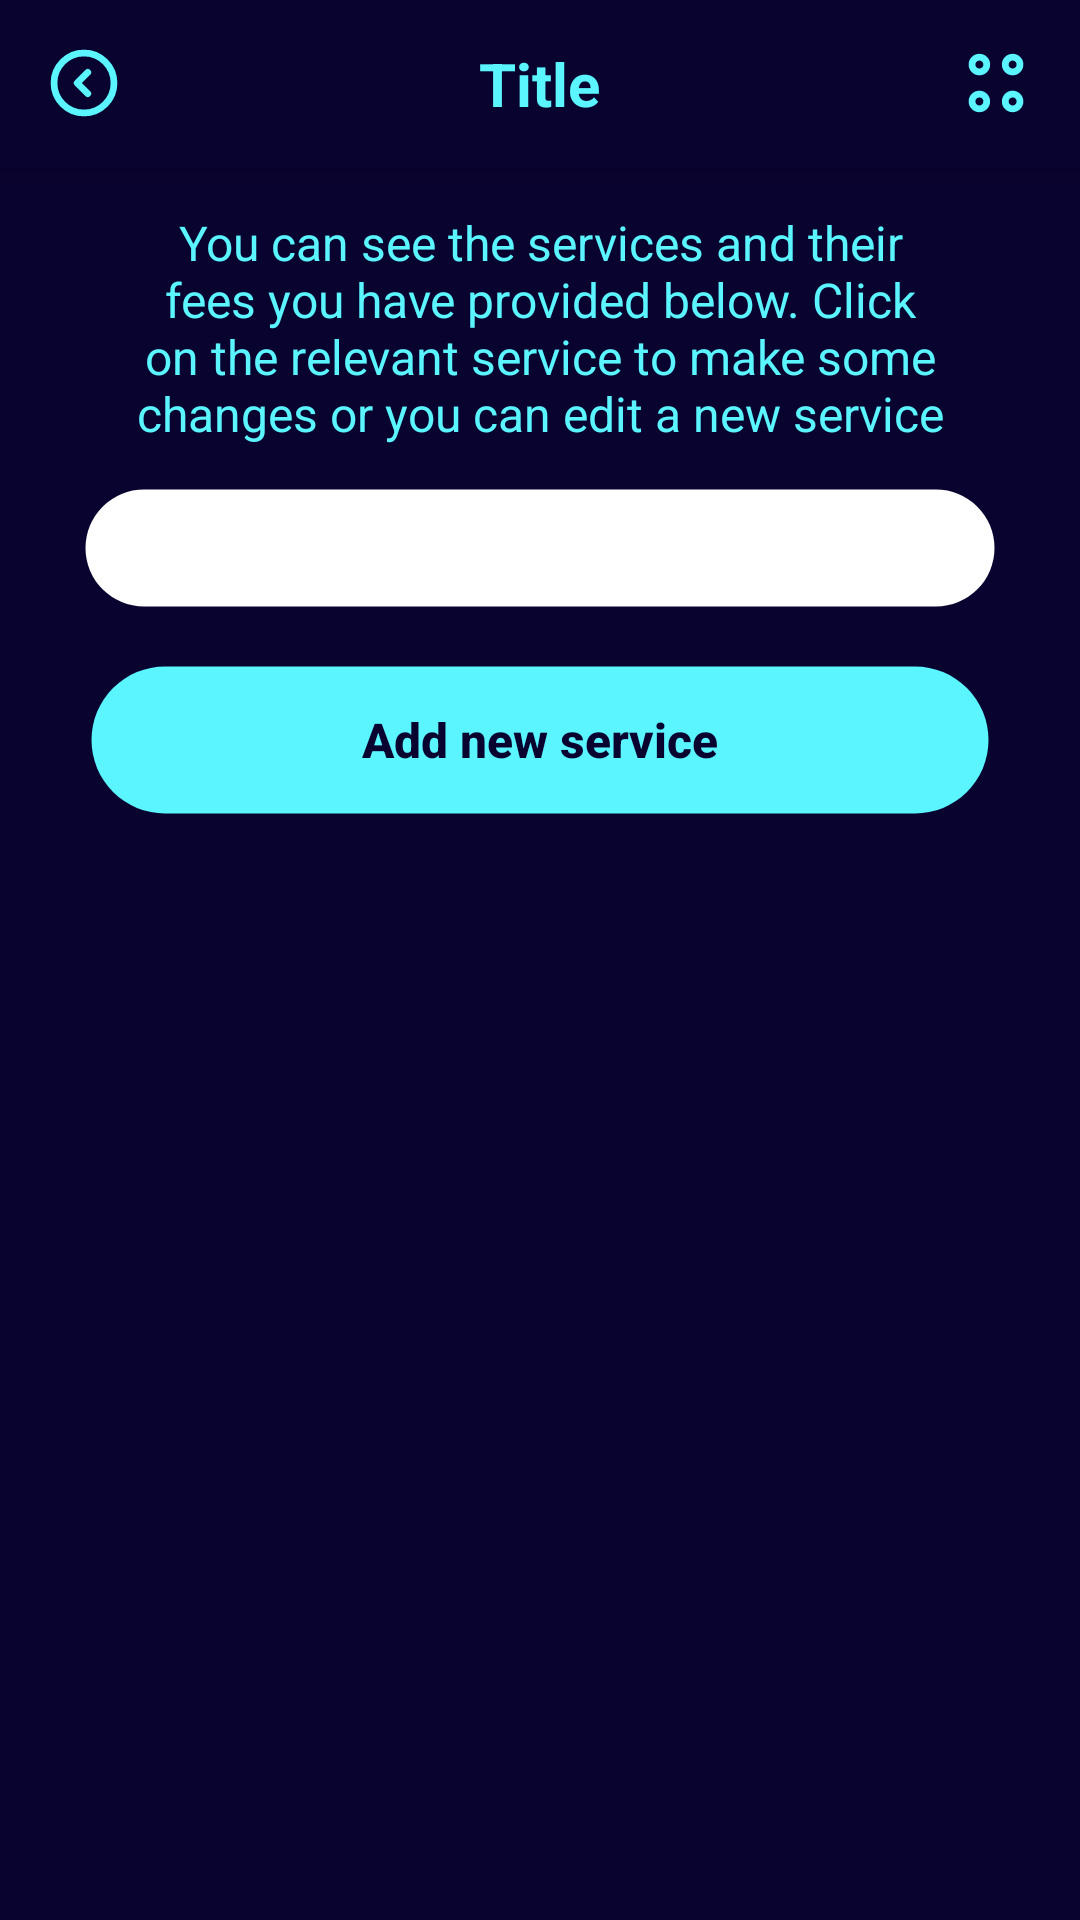

Icons on this 1080 × 1920 Android screen, each with its box as (x1, y1, x2, y2):
arrow circle left: (50, 49, 118, 117)
